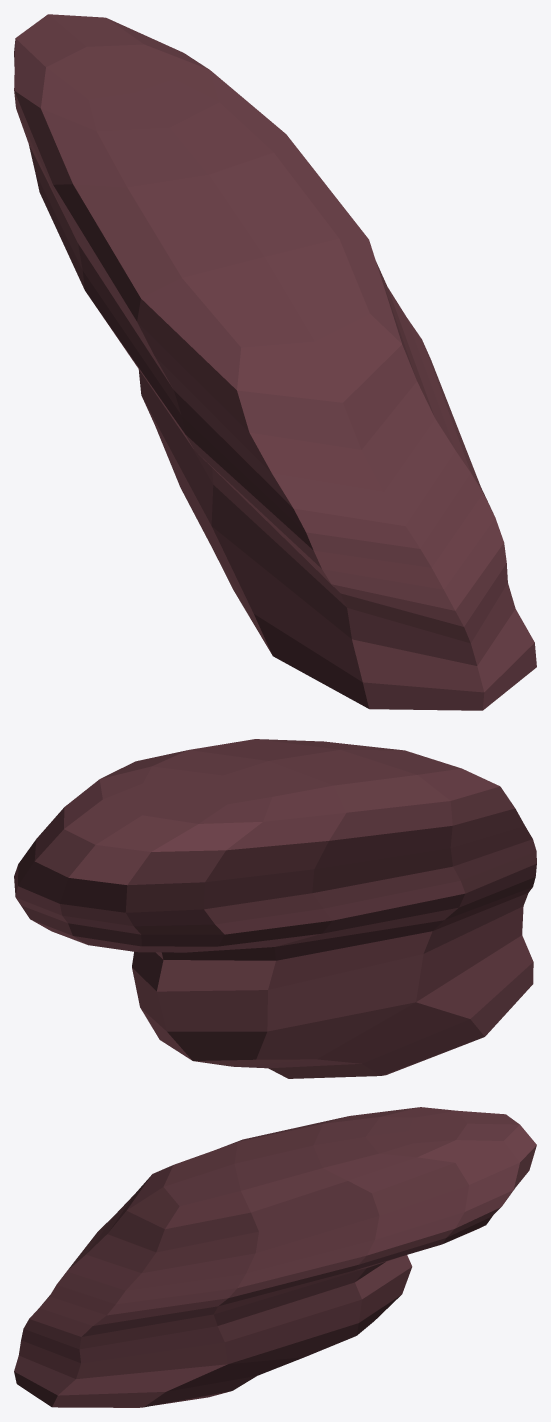
File: rocha - versão 1.fbx
3 renders of one model, top to bottom at view 1: azimuth 30°, elevation 25°; view 2: azimuth 150°, elevation 25°; view 3: azimuth 270°, elevation 25°, orthographic. The views are drawn at different scales.
Parts seen in each view (by area): view 1: rocha - versão 1; view 2: rocha - versão 1; view 3: rocha - versão 1.
Part boxes in pixels (x1,y1,x2,y2): rocha - versão 1: [14, 14, 536, 710]; rocha - versão 1: [14, 739, 536, 1078]; rocha - versão 1: [14, 1107, 536, 1407].
Size of the model in its own units: 174 by 243 by 446.
